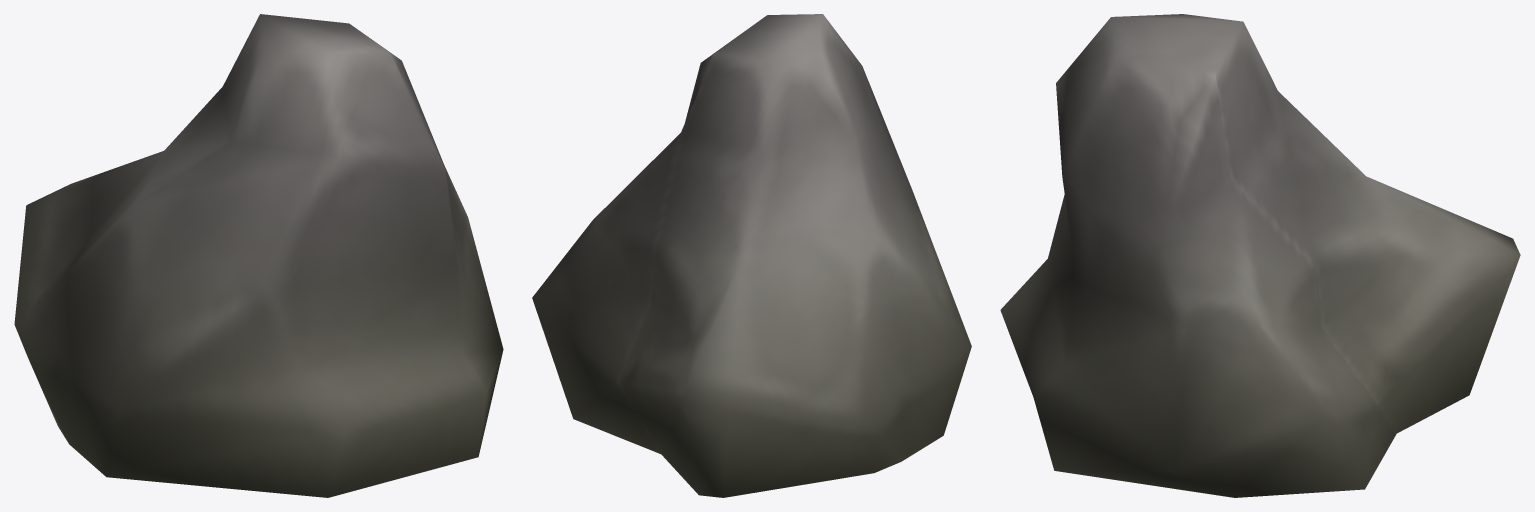
Rendered from Stones_Medium_02.FBX.
3 views of the same model, side by side, from view 1: azimuth 30°, elevation 25°; view 2: azimuth 150°, elevation 25°; view 3: azimuth 270°, elevation 25° (orthographic). The views are drawn at different scales.
Parts seen in each view (by area): view 1: Stones_Medium_02; view 2: Stones_Medium_02; view 3: Stones_Medium_02.
Boxes of the visible parts, x1,y1,x2,y2 form: Stones_Medium_02: (14,14,503,497); Stones_Medium_02: (532,14,971,497); Stones_Medium_02: (1000,14,1520,497).
Size of the model in its own units: 446 by 420 by 497.
